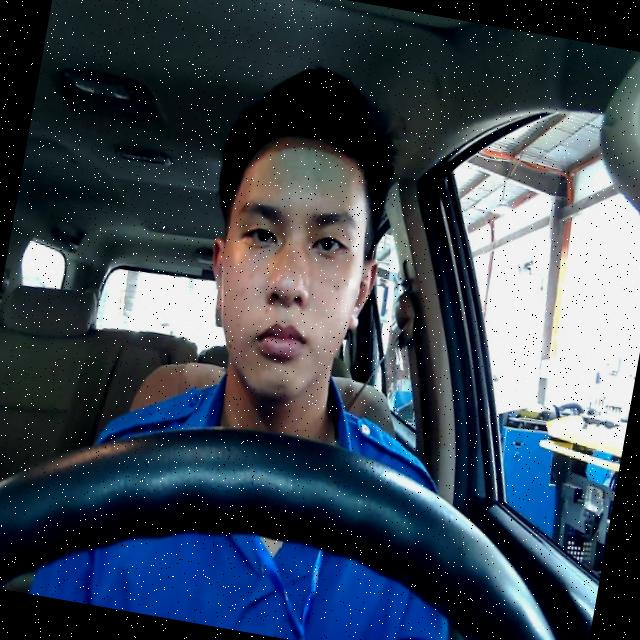focused: (187, 122, 399, 410)
